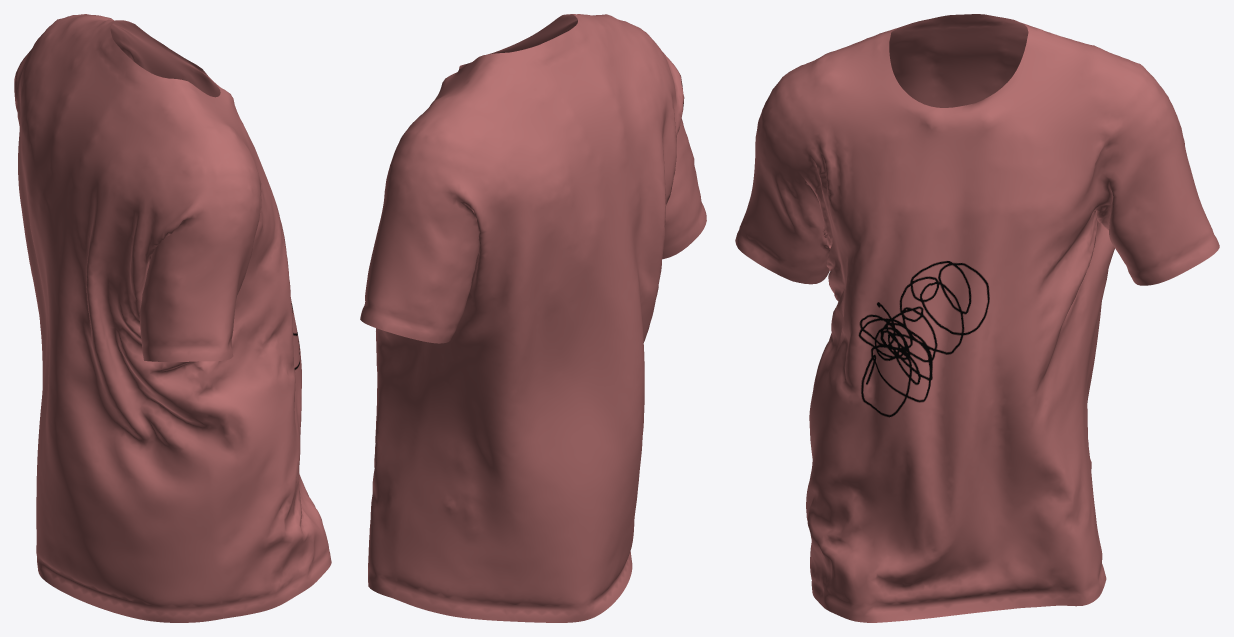
Rendered from 1762503253193-lugaFata.glb.
The picture shows the model from 3 angles, left to right: view 1: azimuth 30°, elevation 25°; view 2: azimuth 150°, elevation 25°; view 3: azimuth 270°, elevation 25°; orthographic projection. The views are drawn at different scales.
Visible parts, largest first — view 1: Material1722, Material1718, Material1724, Material1720; view 2: Material1722, Material1724, Material1718, Material1720; view 3: Material1718, Material1724, Material1722, Material1720.
Part boxes in pixels (x1,y1,x2,y2): Material1722: (14, 14, 223, 622); Material1718: (88, 14, 331, 618); Material1724: (16, 29, 260, 362); Material1720: (102, 20, 230, 105); Material1722: (392, 14, 677, 622); Material1724: (360, 41, 706, 343); Material1718: (368, 14, 629, 597); Material1720: (454, 14, 586, 76); Material1718: (776, 35, 1144, 622); Material1724: (735, 75, 1219, 285); Material1722: (783, 20, 1151, 586); Material1720: (876, 14, 1038, 119).
Size of the model in its own units: 32.85 by 70.89 by 56.91.
Materials: 4 (2 with a texture image).
